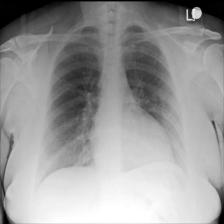normal: (37, 14, 195, 194)
